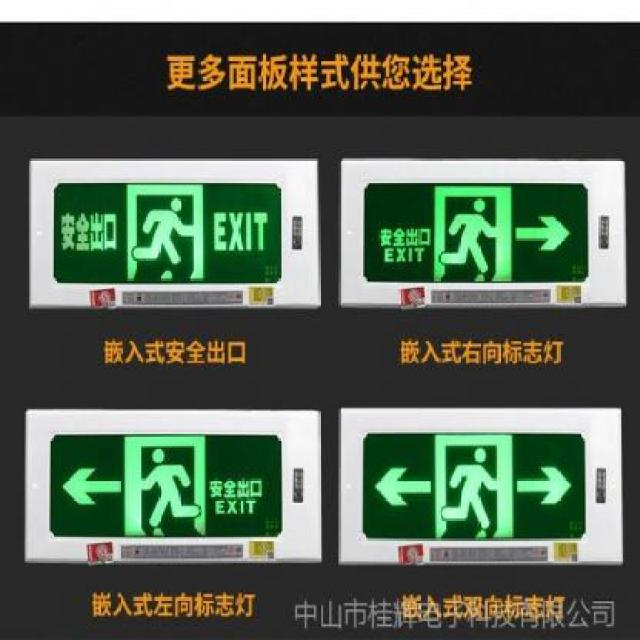exit_sign: (35, 158, 318, 302), (357, 422, 598, 548), (46, 426, 286, 543), (363, 179, 598, 286)
